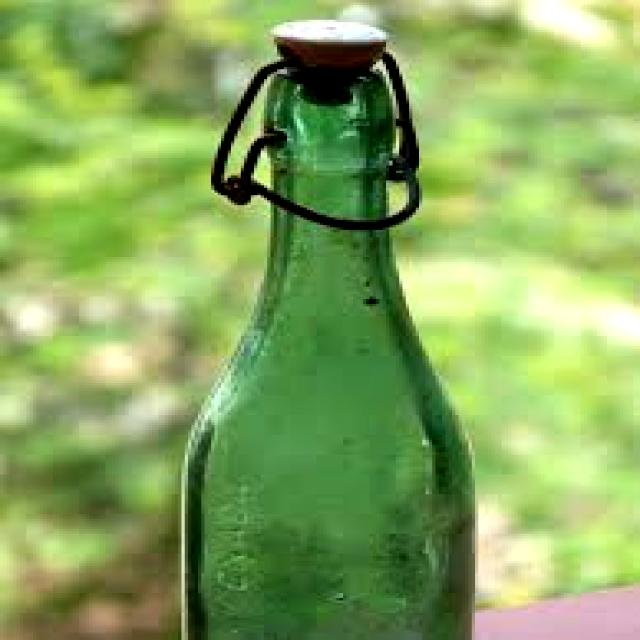Glass: (177, 62, 480, 640)
